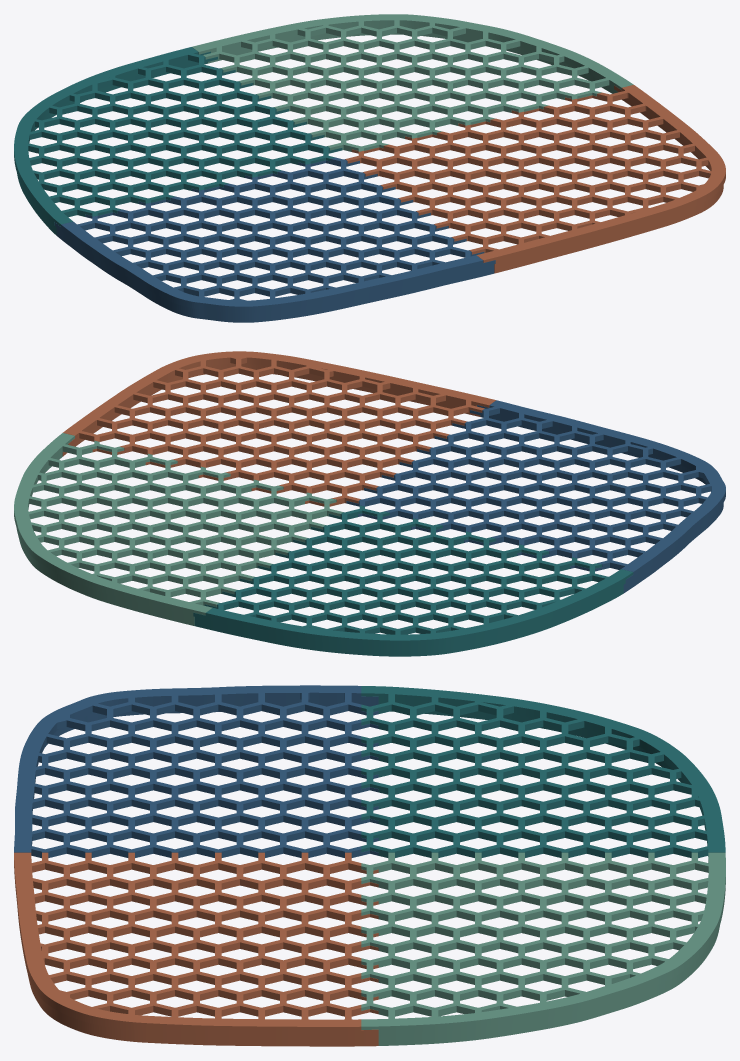
Rendered from assembly-quarters.glb.
3 renders of one model, top to bottom at view 1: azimuth 30°, elevation 25°; view 2: azimuth 150°, elevation 25°; view 3: azimuth 270°, elevation 25°, orthographic. The views are drawn at different scales.
Parts seen in each view (by area): view 1: front-left, front-right, back-right, back-left; view 2: back-left, front-right, front-left, back-right; view 3: front-right, back-right, front-left, back-left.
Part boxes in pixels (x1,y1,x2,y2): front-left: (54,157,495,322); front-right: (345,85,725,273); back-right: (192,14,633,151); back-left: (14,47,342,235); back-left: (193,505,633,656); front-right: (62,351,495,506); front-left: (346,400,725,593); back-right: (14,433,342,625); front-right: (14,852,378,1046); back-right: (361,852,725,1045); front-left: (14,685,378,858); back-left: (361,686,725,858).
Bounding box in the file's own units: 0.5578 × 0.0159 × 0.4915.
